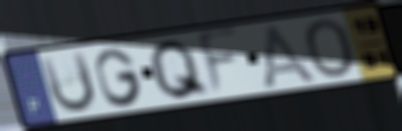A: (258, 21, 322, 88)
F: (195, 24, 243, 101)
G: (92, 46, 146, 109)
O: (301, 17, 359, 80)
Q: (147, 37, 213, 102)
U: (37, 49, 99, 116)
